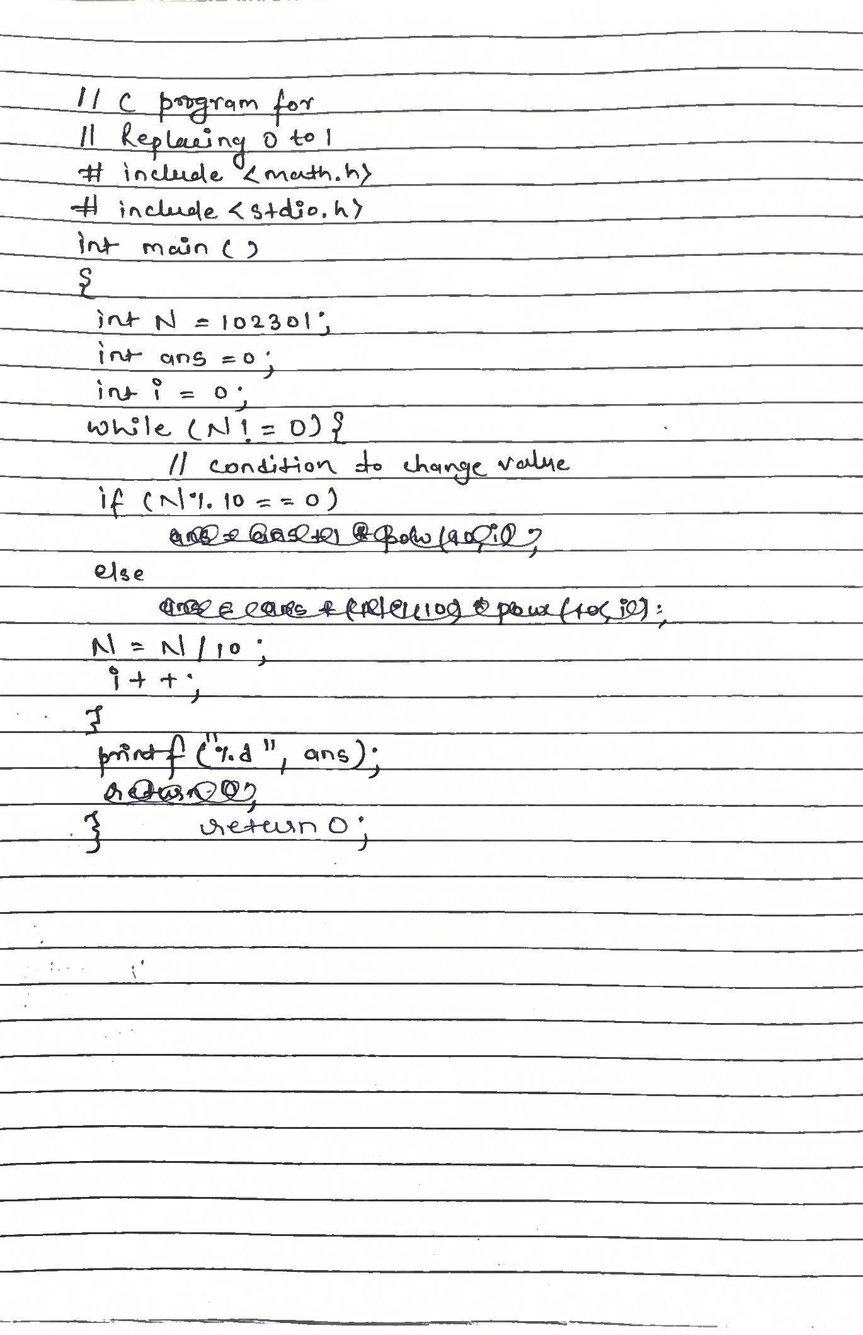cuttings: (156, 591, 671, 632), (167, 519, 549, 556), (102, 777, 259, 816)
